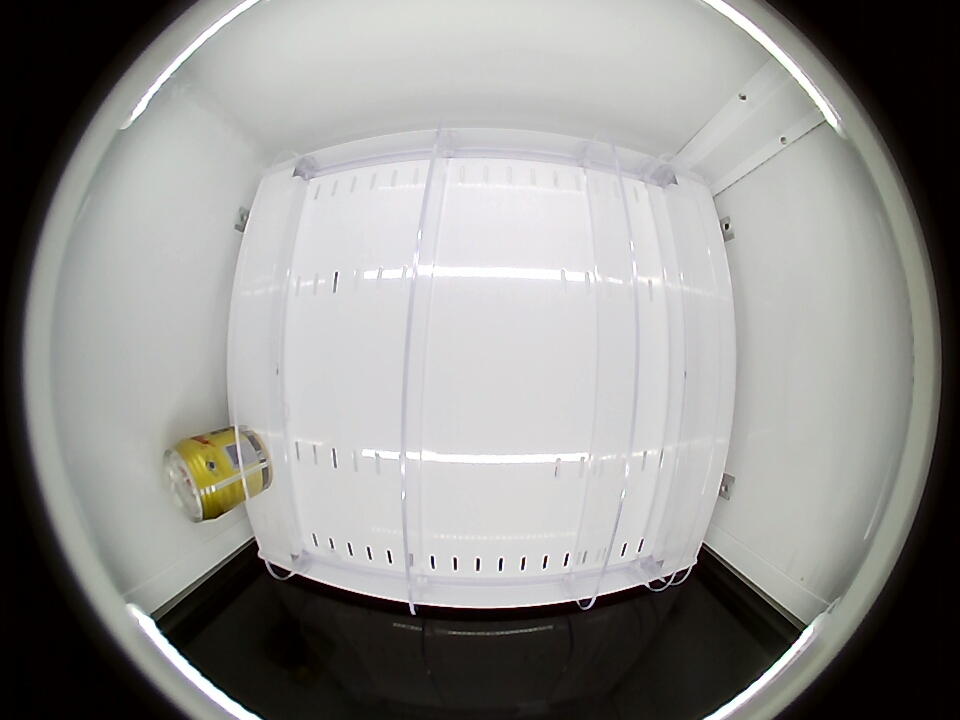hongniu2: (163, 436, 226, 523)
